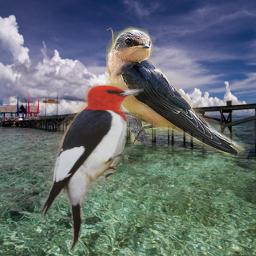Swallow: (106, 22, 252, 162)
Woodpecker: (40, 83, 144, 252)
